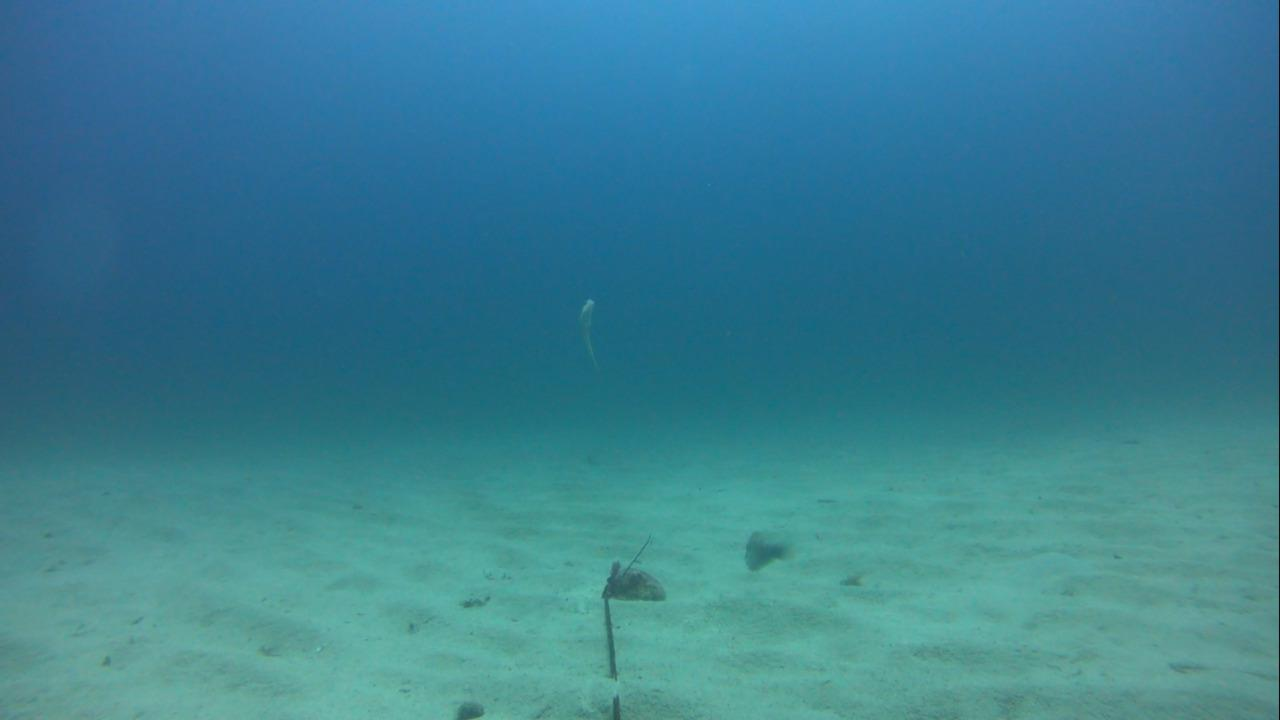raor: (565, 292, 608, 379), (733, 527, 795, 580)
